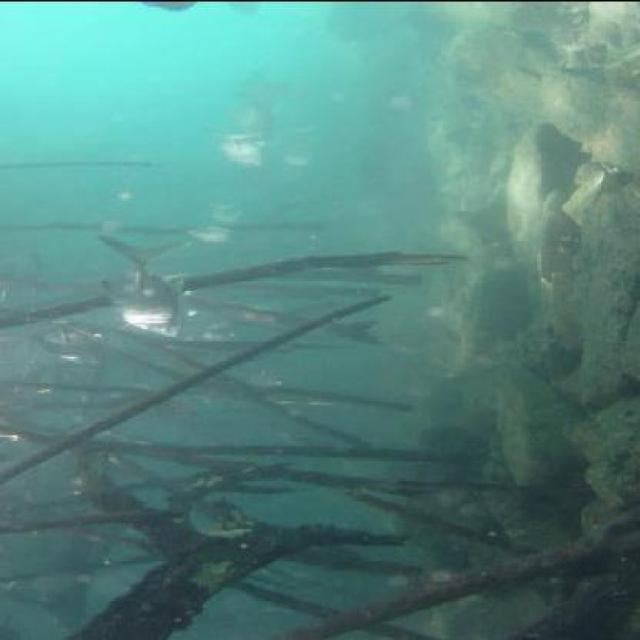Caranx_sexfasciatus_juvenile: (97, 234, 192, 334), (151, 272, 227, 342), (35, 313, 111, 370), (195, 126, 276, 172), (221, 80, 287, 134), (182, 203, 253, 245), (278, 120, 330, 171)
